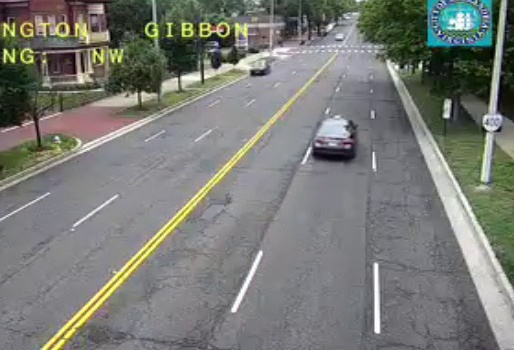car: (312, 119, 356, 154)
